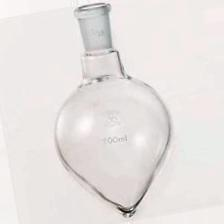Pear shaped flask: (39, 19, 174, 211)
